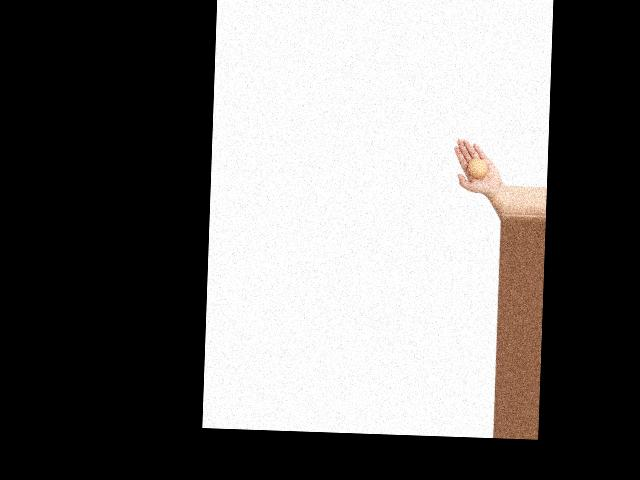egg: (468, 158, 488, 179)
